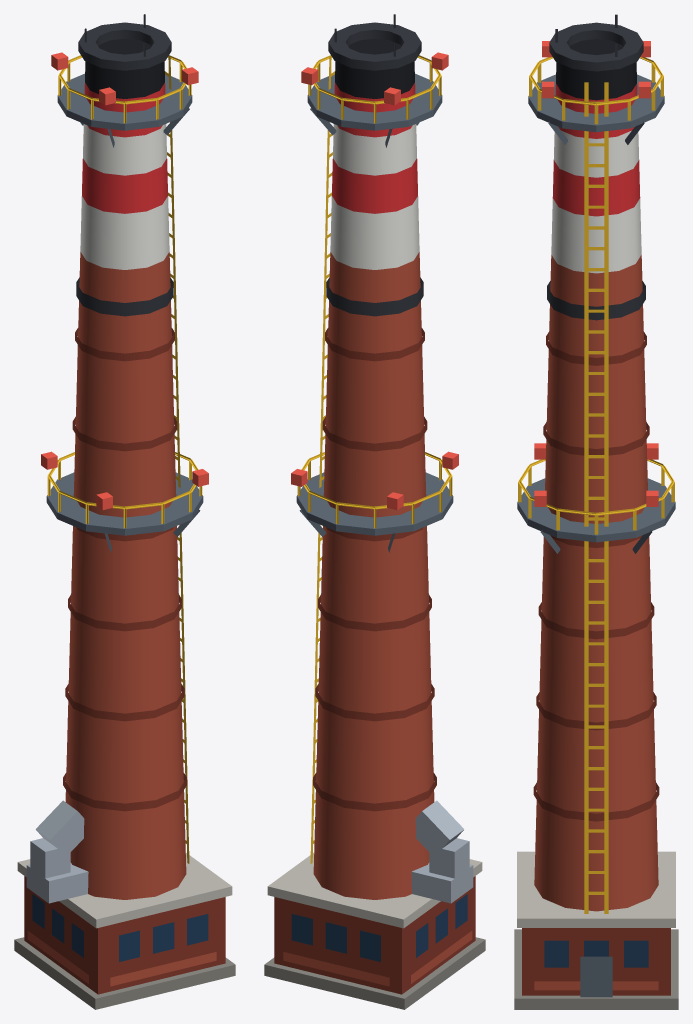
The model's file is smokestack.glb.
3 renders of one model, left to right at view 1: azimuth 30°, elevation 25°; view 2: azimuth 150°, elevation 25°; view 3: azimuth 270°, elevation 25°, orthographic.
Visible parts, largest first — view 1: Body; view 2: Body; view 3: Body.
Boxes of the visible parts, bbox=[...] form: Body: bbox=[14, 14, 235, 1009]; Body: bbox=[264, 14, 485, 1009]; Body: bbox=[514, 14, 678, 1009].
Bounding box in the file's own units: 0.74 × 4.2 × 0.66.
